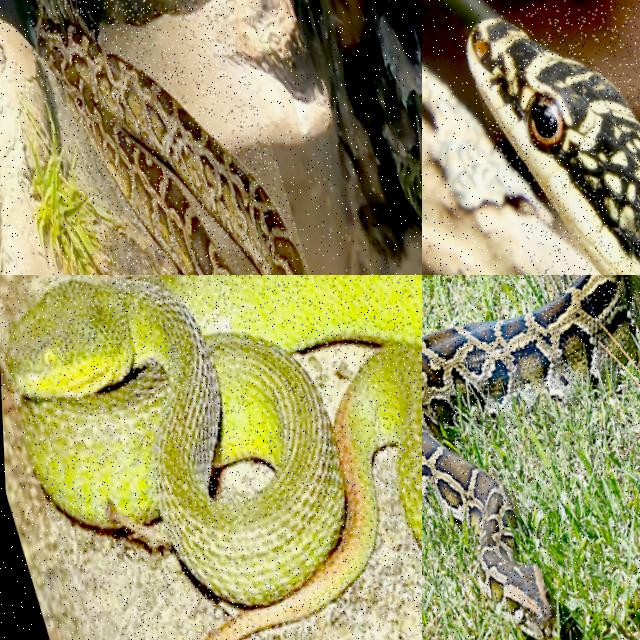Chrysopelea ornata: (468, 19, 639, 274)
Python bivittatus: (422, 275, 639, 639), (35, 0, 306, 274)
Trimeresurus: (6, 275, 421, 639)
